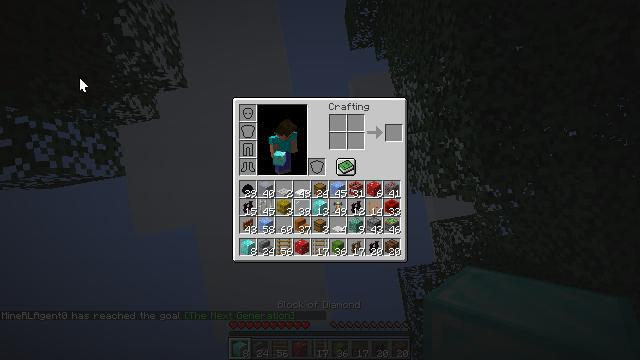cursor: (79, 77, 89, 93)
